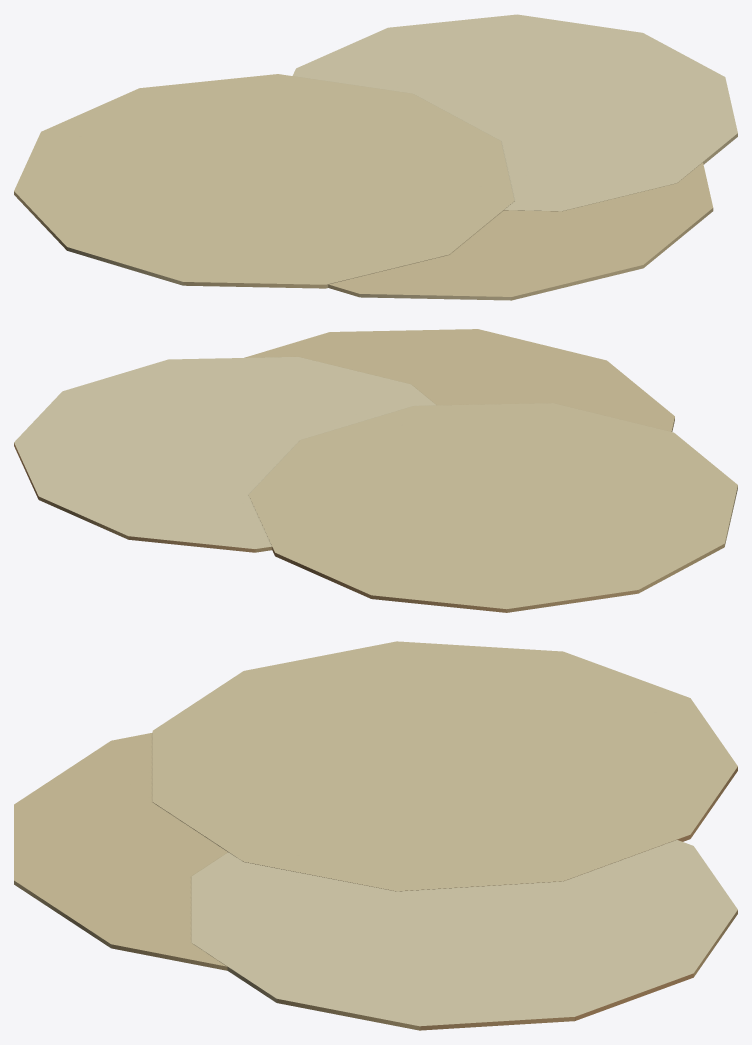
The model's file is area_gym_0_0.fbx.
3 renders of one model, top to bottom at view 1: azimuth 30°, elevation 25°; view 2: azimuth 150°, elevation 25°; view 3: azimuth 270°, elevation 25°, orthographic. The views are drawn at different scales.
Visible parts, largest first — view 1: area_gym_0_0_body; view 2: area_gym_0_0_body; view 3: area_gym_0_0_body.
Part boxes in pixels (x1,y1,x2,y2): area_gym_0_0_body: (14,14,737,300); area_gym_0_0_body: (14,329,737,612); area_gym_0_0_body: (14,641,737,1030).
Bounding box in the file's own units: 11426 × 62.5 × 9088.
Materials: 1 (1 with a texture image).
